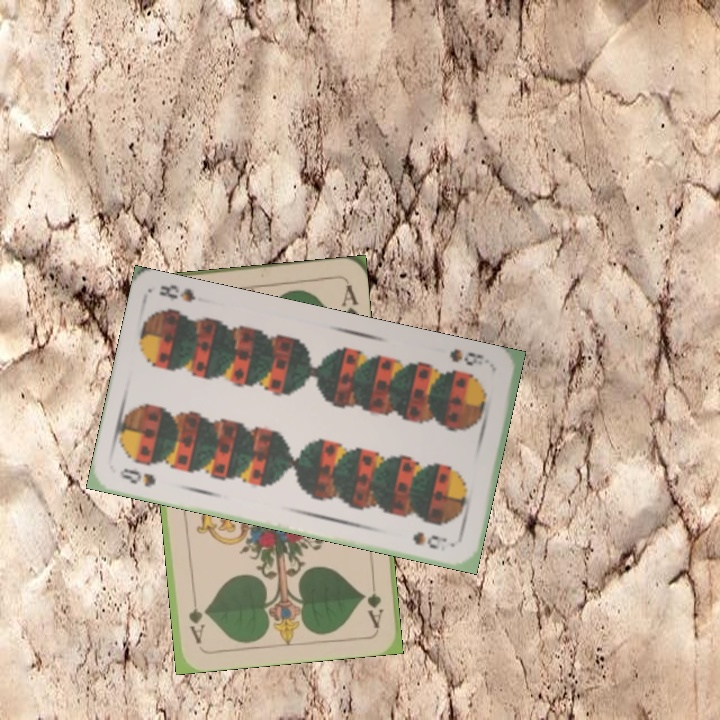GA: (363, 570, 386, 630)
S8: (115, 464, 158, 489), (445, 344, 487, 368)
